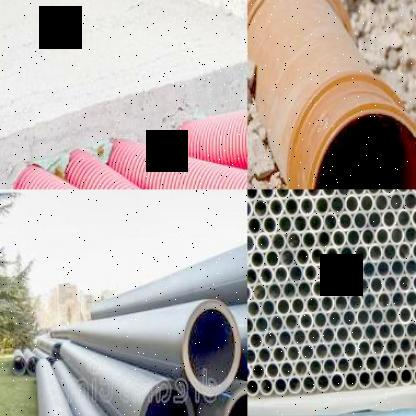pipe: (308, 106, 416, 189), (184, 298, 242, 397), (139, 380, 194, 416), (283, 196, 300, 218), (268, 196, 285, 218), (252, 197, 269, 219), (270, 230, 287, 252), (314, 195, 331, 216), (322, 211, 339, 232), (329, 193, 345, 215), (299, 195, 315, 217), (381, 208, 397, 230), (308, 211, 324, 233), (277, 213, 293, 235), (262, 214, 278, 236), (256, 232, 272, 254), (375, 258, 391, 280), (313, 310, 329, 332), (248, 330, 264, 352), (293, 212, 308, 235), (396, 208, 412, 229), (367, 209, 383, 230), (316, 228, 332, 249), (286, 230, 302, 251), (339, 244, 355, 265), (303, 262, 319, 283), (258, 265, 274, 286), (311, 278, 327, 299), (282, 280, 298, 301), (267, 280, 283, 301), (290, 296, 306, 317), (327, 309, 343, 330), (283, 312, 299, 333), (269, 313, 285, 334), (374, 192, 389, 214), (360, 192, 375, 214), (345, 192, 360, 214), (338, 210, 353, 232), (254, 314, 269, 336), (352, 210, 368, 230), (389, 225, 405, 245), (331, 228, 347, 248), (368, 243, 384, 263), (383, 274, 399, 294), (348, 292, 364, 312), (362, 292, 378, 312), (261, 298, 277, 318), (342, 308, 358, 328), (320, 326, 336, 346), (306, 327, 322, 347), (314, 341, 330, 361), (271, 344, 287, 364), (257, 345, 273, 365), (391, 352, 407, 372), (293, 359, 309, 379), (371, 368, 387, 388), (273, 376, 289, 396), (389, 191, 404, 212), (247, 214, 262, 235), (346, 226, 361, 247), (302, 229, 317, 250), (354, 243, 369, 264), (325, 245, 340, 266), (310, 245, 325, 266), (295, 246, 310, 267), (265, 248, 280, 269), (274, 265, 289, 286), (297, 279, 312, 300), (252, 283, 267, 304), (320, 294, 335, 315), (305, 294, 320, 315), (276, 297, 291, 318), (335, 324, 350, 345), (371, 336, 385, 358), (361, 260, 377, 279), (332, 262, 348, 281), (326, 278, 342, 297), (292, 328, 308, 347), (398, 336, 414, 355), (279, 361, 295, 380), (259, 377, 275, 396), (375, 226, 390, 246), (397, 241, 412, 261), (383, 242, 398, 262), (280, 248, 295, 268), (250, 250, 265, 270), (347, 260, 362, 280), (289, 264, 304, 284), (340, 277, 355, 297), (384, 306, 399, 326), (299, 312, 314, 332), (278, 329, 293, 349), (263, 330, 278, 350), (300, 343, 315, 363), (378, 352, 393, 372), (251, 362, 266, 382), (385, 368, 400, 388), (287, 375, 302, 395), (370, 306, 384, 327), (357, 307, 371, 328), (378, 320, 392, 341), (363, 321, 377, 342), (330, 370, 344, 391), (316, 372, 330, 393), (403, 190, 416, 212), (361, 227, 376, 246), (390, 258, 405, 277), (318, 262, 333, 281), (369, 275, 384, 294), (355, 277, 370, 296), (377, 291, 392, 310), (334, 293, 349, 312), (398, 305, 413, 324), (286, 344, 301, 363), (308, 359, 323, 378), (265, 361, 280, 380), (302, 375, 317, 394), (398, 273, 412, 293), (392, 321, 406, 341), (350, 324, 364, 344), (344, 340, 358, 360), (322, 356, 336, 376), (399, 367, 413, 387), (358, 369, 372, 389), (344, 370, 358, 390), (392, 290, 406, 309), (385, 337, 399, 356), (358, 339, 372, 358), (329, 341, 343, 360), (364, 354, 378, 373), (351, 355, 365, 374), (336, 356, 350, 375), (404, 223, 416, 244), (248, 299, 260, 320), (404, 257, 416, 277), (404, 288, 416, 308), (247, 266, 258, 287), (405, 350, 416, 370), (248, 377, 260, 395), (405, 321, 416, 340), (248, 346, 258, 366), (247, 232, 256, 253), (258, 190, 275, 200), (247, 315, 255, 336), (290, 190, 306, 200), (274, 190, 290, 200), (248, 190, 260, 202), (305, 190, 322, 198), (247, 197, 253, 219), (247, 283, 253, 304), (336, 189, 351, 197), (321, 189, 336, 197), (410, 239, 416, 259), (410, 272, 416, 292), (410, 207, 416, 226), (351, 189, 367, 196), (366, 189, 381, 196), (411, 303, 416, 322), (411, 335, 416, 354), (247, 362, 252, 381), (381, 189, 396, 195), (395, 189, 411, 194), (412, 365, 416, 385), (410, 189, 416, 193)
